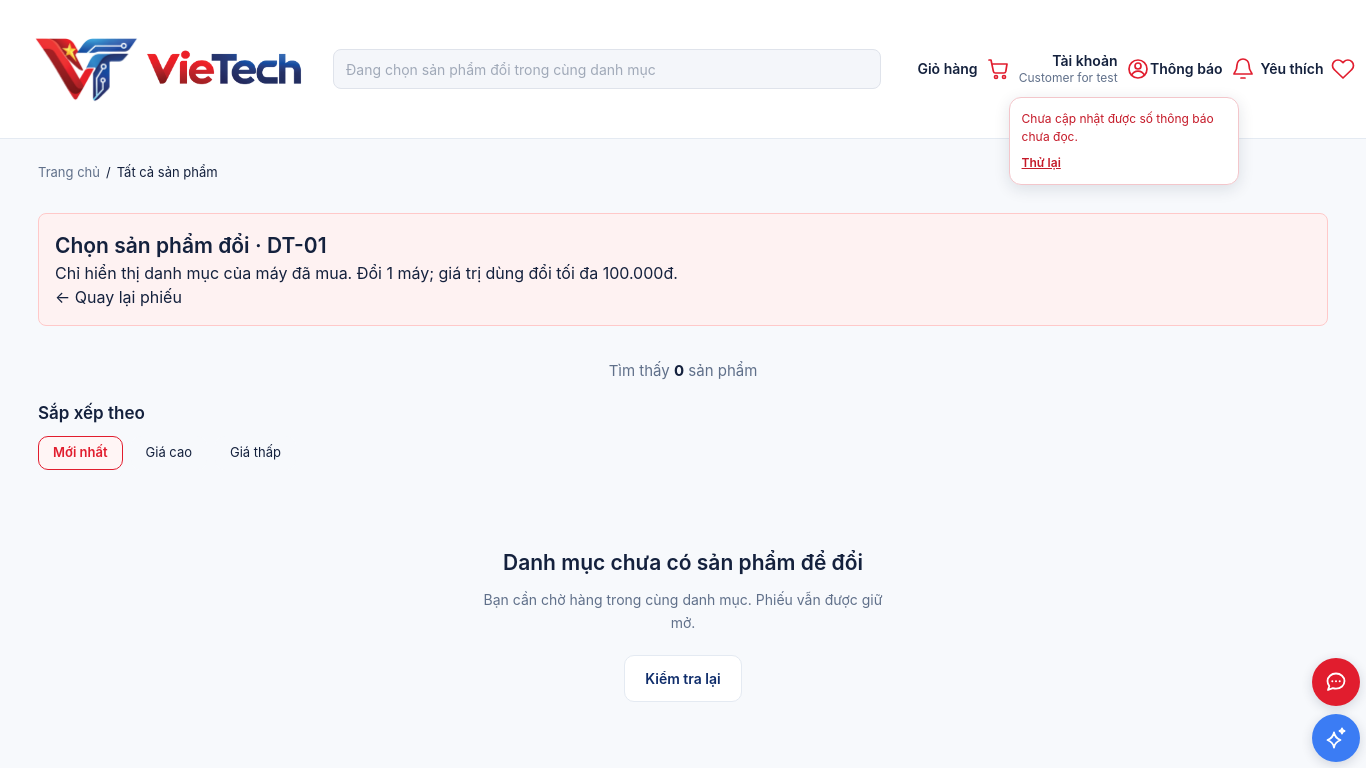
Test: the logo exits exchange browsing and restores the normal search
Check: the heading "Danh mục chưa có sản phẩm để đổi" is shown, box [503,548,863,577]
Click the link named "VieTech – Trang chủ" at coordinates (167, 69), box [29,35,305,103]
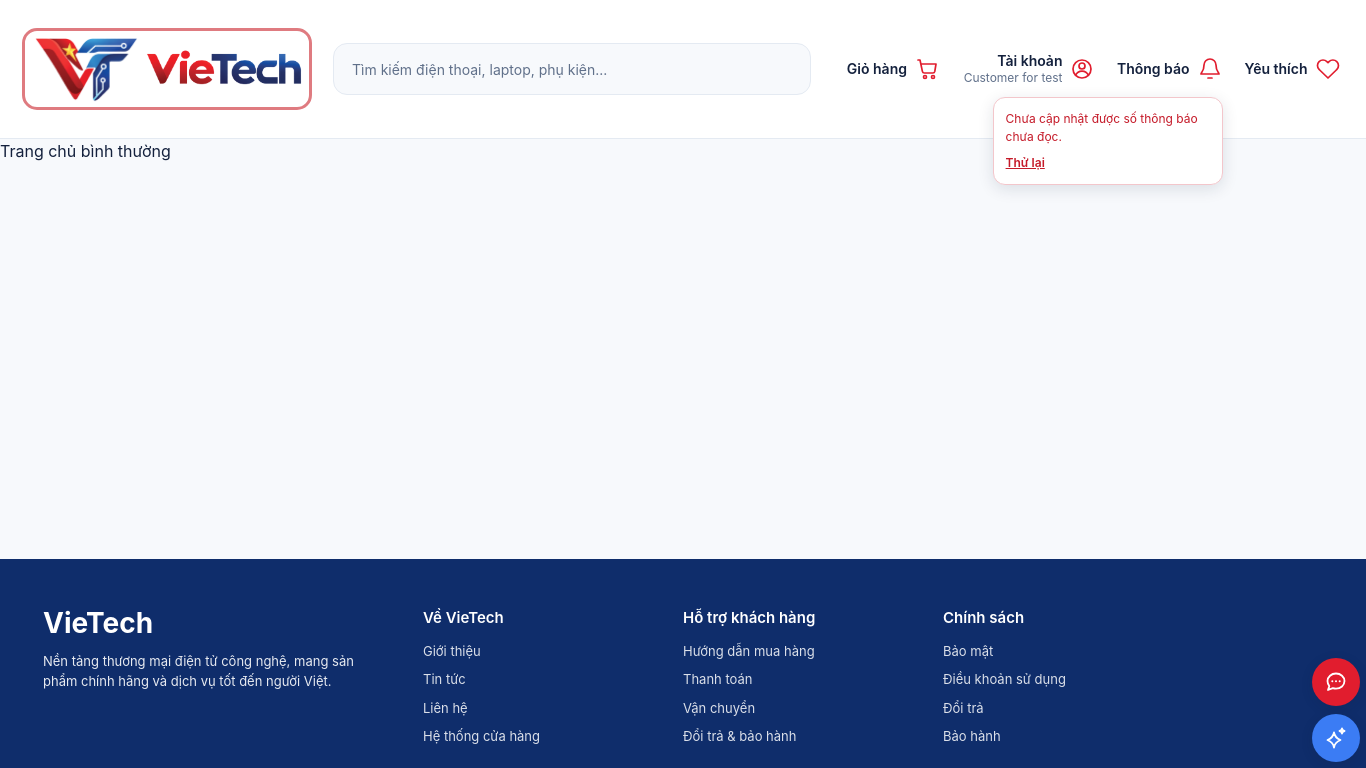
Check: the search field named "Tìm kiếm sản phẩm" is enabled, box [352,58,792,80]
